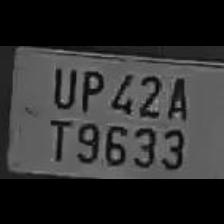2: (134, 68, 162, 116)
3: (129, 120, 157, 166), (158, 122, 186, 168)
4: (105, 66, 135, 114)
6: (100, 120, 127, 166)
9: (72, 116, 100, 164)
A: (162, 70, 190, 119)
P: (75, 62, 105, 112)
T: (43, 114, 71, 162)
U: (48, 61, 76, 108)
